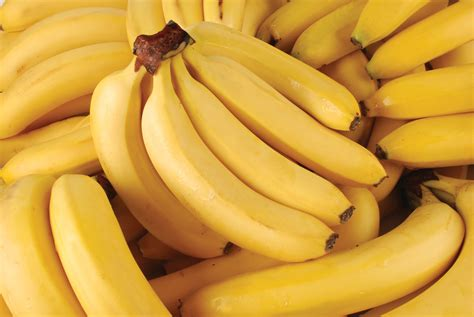banana: (140, 76, 340, 261), (167, 200, 469, 317), (171, 64, 356, 225), (89, 63, 226, 260), (194, 56, 390, 189), (196, 29, 365, 133)
